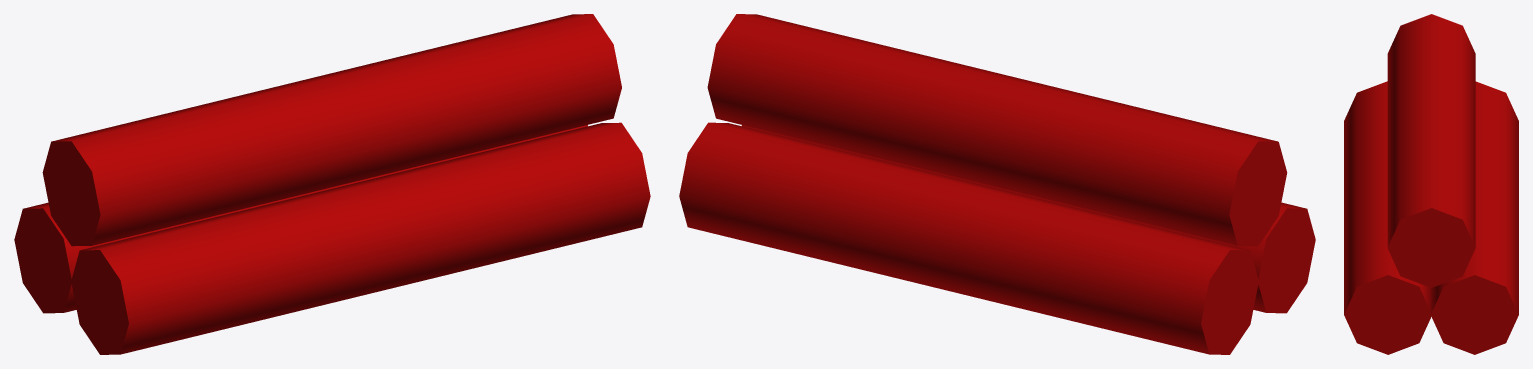
File: Dynamite.FBX
The picture shows the model from 3 angles, left to right: view 1: azimuth 30°, elevation 25°; view 2: azimuth 150°, elevation 25°; view 3: azimuth 270°, elevation 25°; orthographic projection. The views are drawn at different scales.
Visible parts, largest first — view 1: tnt; view 2: tnt; view 3: tnt.
Boxes of the visible parts, box(x1,y1,x2,y2) form: tnt: box(14, 14, 650, 354); tnt: box(679, 14, 1315, 354); tnt: box(1344, 14, 1518, 354).
Bounding box in the file's own units: 29.58 × 10.45 × 11.27.
